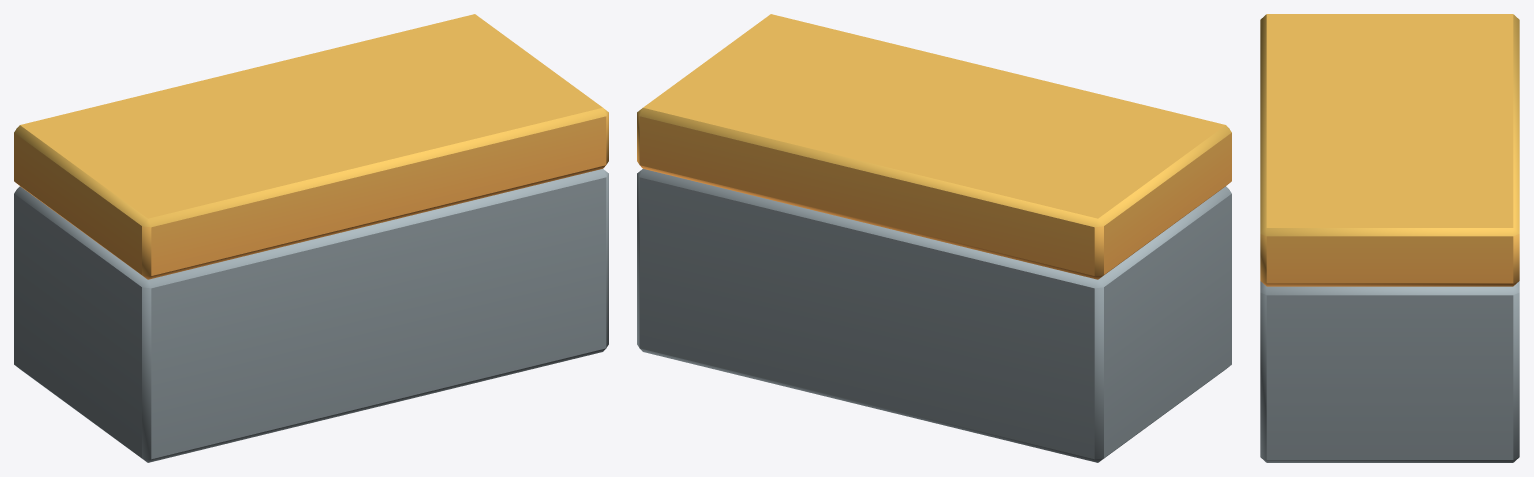
Rendered from platform_4x2x2_yellow.glb.
The picture shows the model from 3 angles, left to right: view 1: azimuth 30°, elevation 25°; view 2: azimuth 150°, elevation 25°; view 3: azimuth 270°, elevation 25°; orthographic projection. The views are drawn at different scales.
Visible parts, largest first — view 1: platform_4x2x2_yellow; view 2: platform_4x2x2_yellow; view 3: platform_4x2x2_yellow.
Boxes of the visible parts, x1=… form: platform_4x2x2_yellow: x1=14, y1=14, x2=608, y2=462; platform_4x2x2_yellow: x1=637, y1=14, x2=1231, y2=462; platform_4x2x2_yellow: x1=1260, y1=14, x2=1519, y2=462.
Bounding box in the file's own units: 4 × 2 × 2.
Materials: 1 (1 with a texture image).
